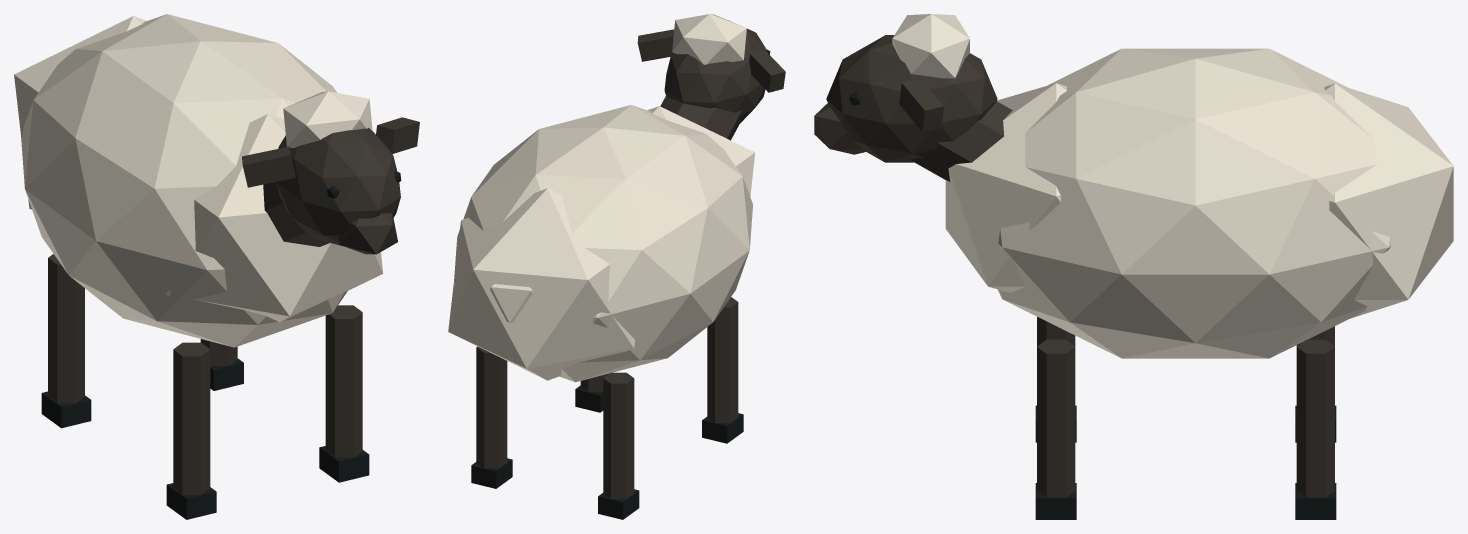
The model's file is fauna_sheep.glb.
3 renders of one model, left to right at view 1: azimuth 30°, elevation 25°; view 2: azimuth 150°, elevation 25°; view 3: azimuth 270°, elevation 25°, orthographic. The views are drawn at different scales.
Parts seen in each view (by area): view 1: fauna_sheep; view 2: fauna_sheep; view 3: fauna_sheep.
Boxes of the visible parts, <box> form: fauna_sheep: <box>14,14,419,519</box>; fauna_sheep: <box>448,14,785,519</box>; fauna_sheep: <box>814,14,1453,519</box>.
Bounding box in the file's own units: 0.6758 × 1.02 × 1.29.
